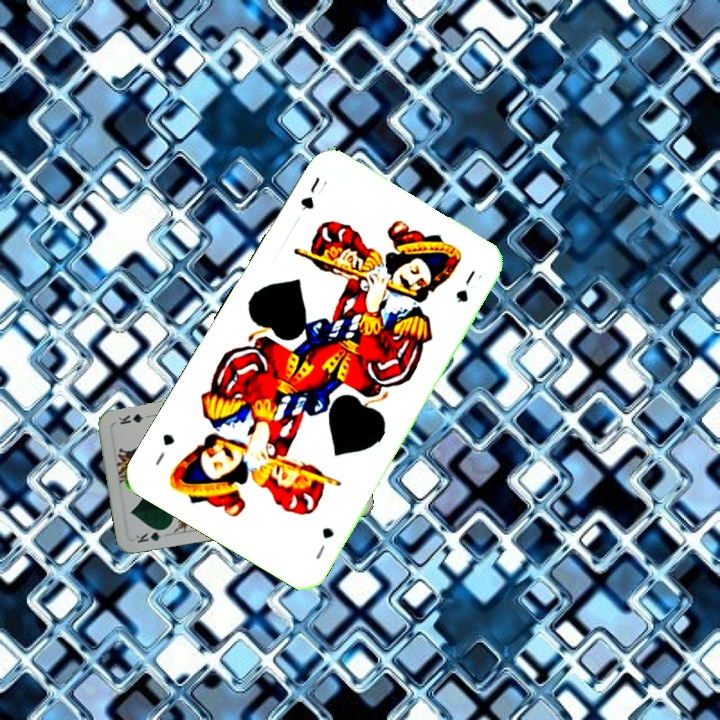GK: (132, 525, 171, 546)
GU: (296, 172, 330, 213), (311, 523, 337, 562)
